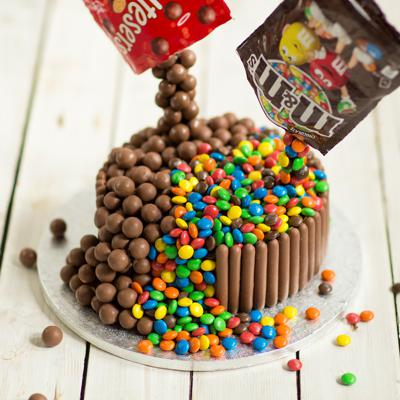cake: (94, 110, 334, 312)
